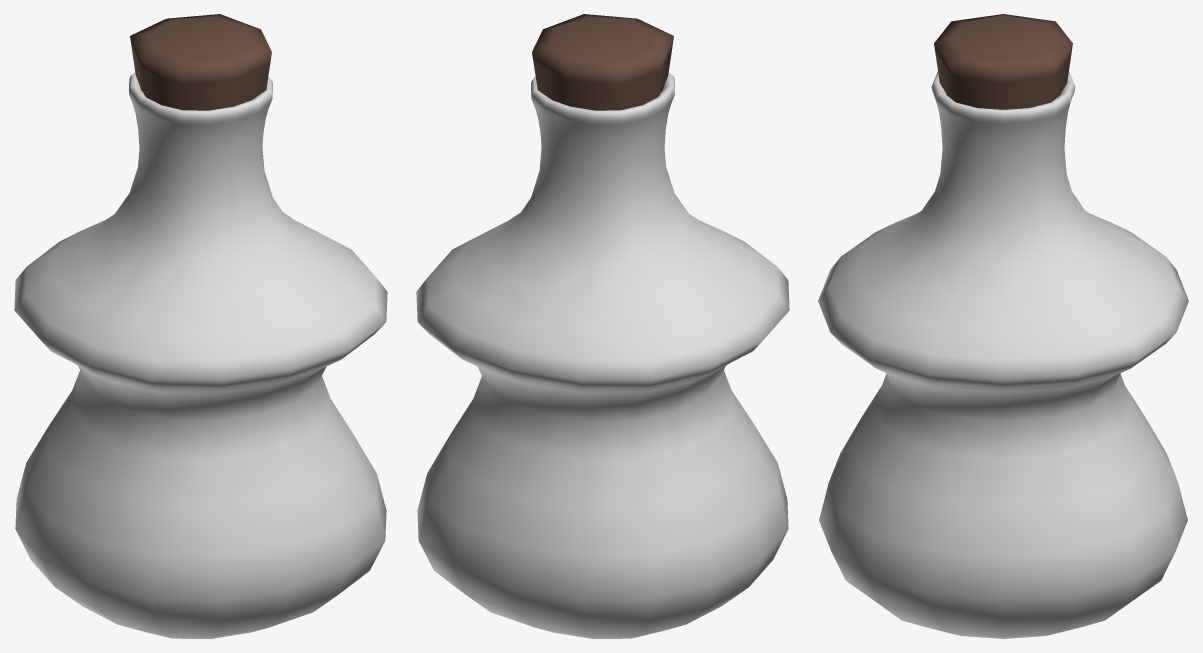
File: potion5_empty.glb
The picture shows the model from 3 angles, left to right: view 1: azimuth 30°, elevation 25°; view 2: azimuth 150°, elevation 25°; view 3: azimuth 270°, elevation 25°; orthographic projection.
Visible parts, largest first — view 1: Potion5_Empty; view 2: Potion5_Empty; view 3: Potion5_Empty.
Boxes of the visible parts, box(x1,y1,x2,y2) form: Potion5_Empty: box(14, 14, 387, 638); Potion5_Empty: box(416, 14, 789, 638); Potion5_Empty: box(818, 14, 1188, 638).
Bounding box in the file's own units: 0.7081 × 1.23 × 0.7081.
